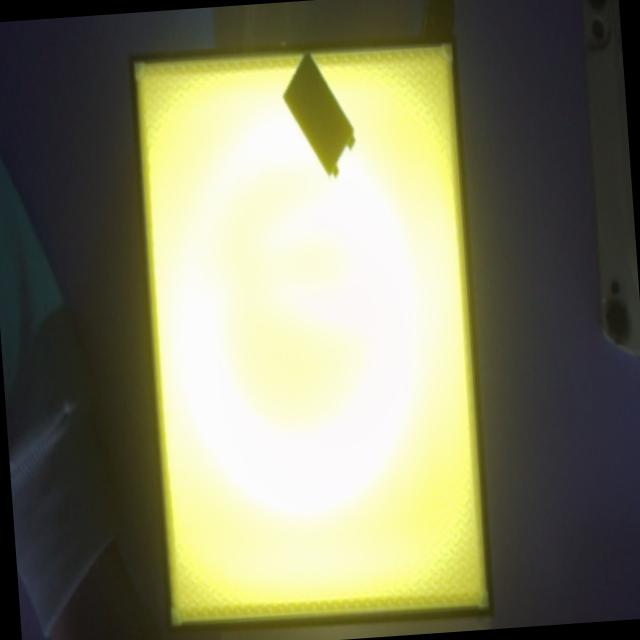bateria: (281, 49, 356, 178)
mesa: (129, 33, 494, 634)
